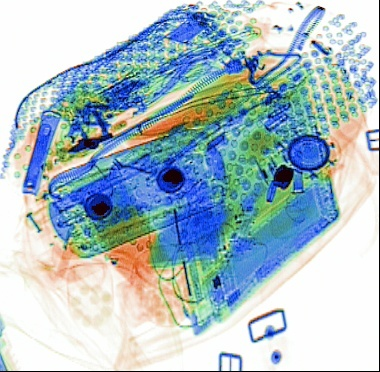powerbank: (141, 183, 233, 268)
